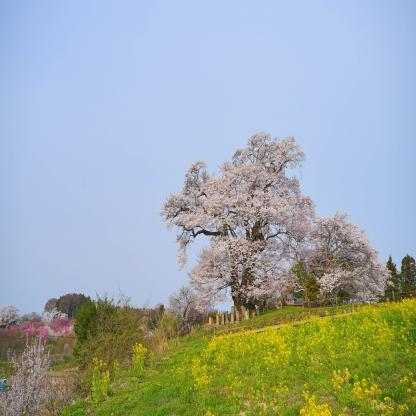EdohiganSakura: (161, 130, 395, 307)
